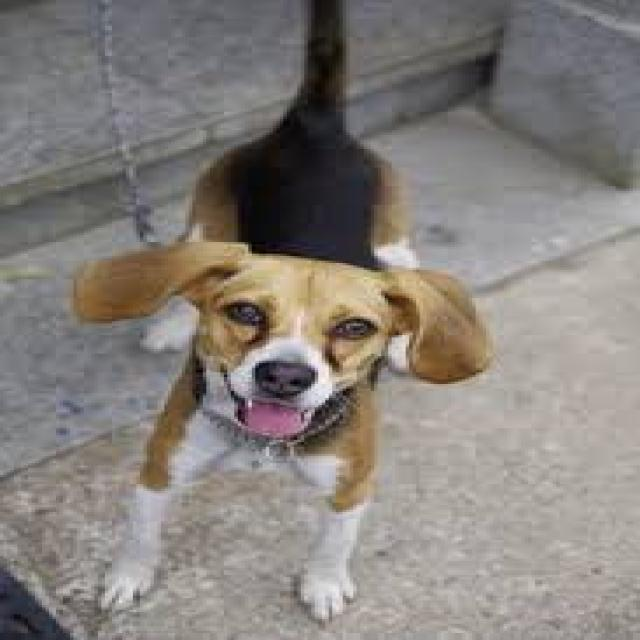Dog: (66, 0, 496, 628)
